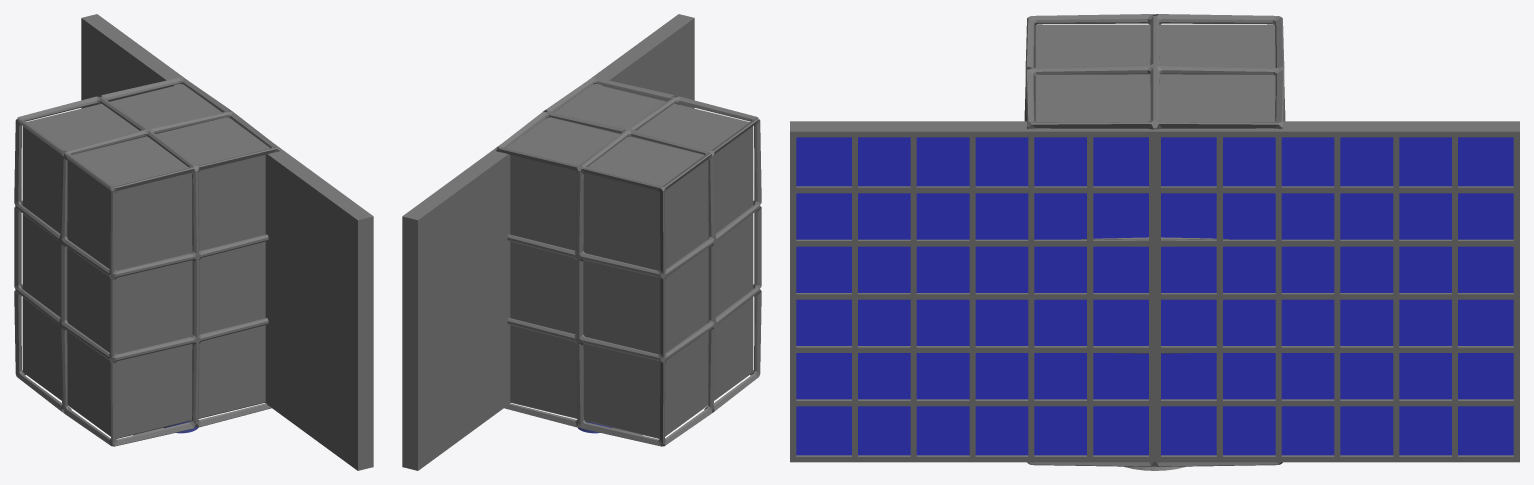
Rendered from CubeSatv2.glb.
The picture shows the model from 3 angles, left to right: view 1: azimuth 30°, elevation 25°; view 2: azimuth 150°, elevation 25°; view 3: azimuth 270°, elevation 25°; orthographic projection. The views are drawn at different scales.
Visible parts, largest first — view 1: Cube, Cube.001; view 2: Cube, Cube.001; view 3: Cube.001, Cube.
Part boxes in pixels (box(x1,y1,x2,y2)): Cube: box(14, 77, 279, 446); Cube.001: box(81, 14, 373, 470); Cube: box(496, 77, 761, 446); Cube.001: box(402, 14, 694, 470); Cube.001: box(790, 121, 1519, 462); Cube: box(1024, 14, 1285, 466).
Size of the model in its own units: 2.19 by 3.47 by 6.
